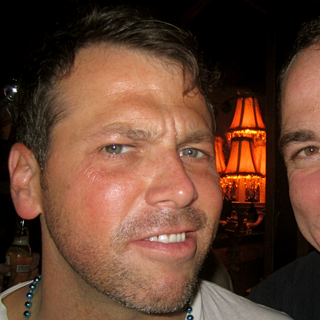eye: (95, 136, 143, 162), (171, 141, 211, 165)
